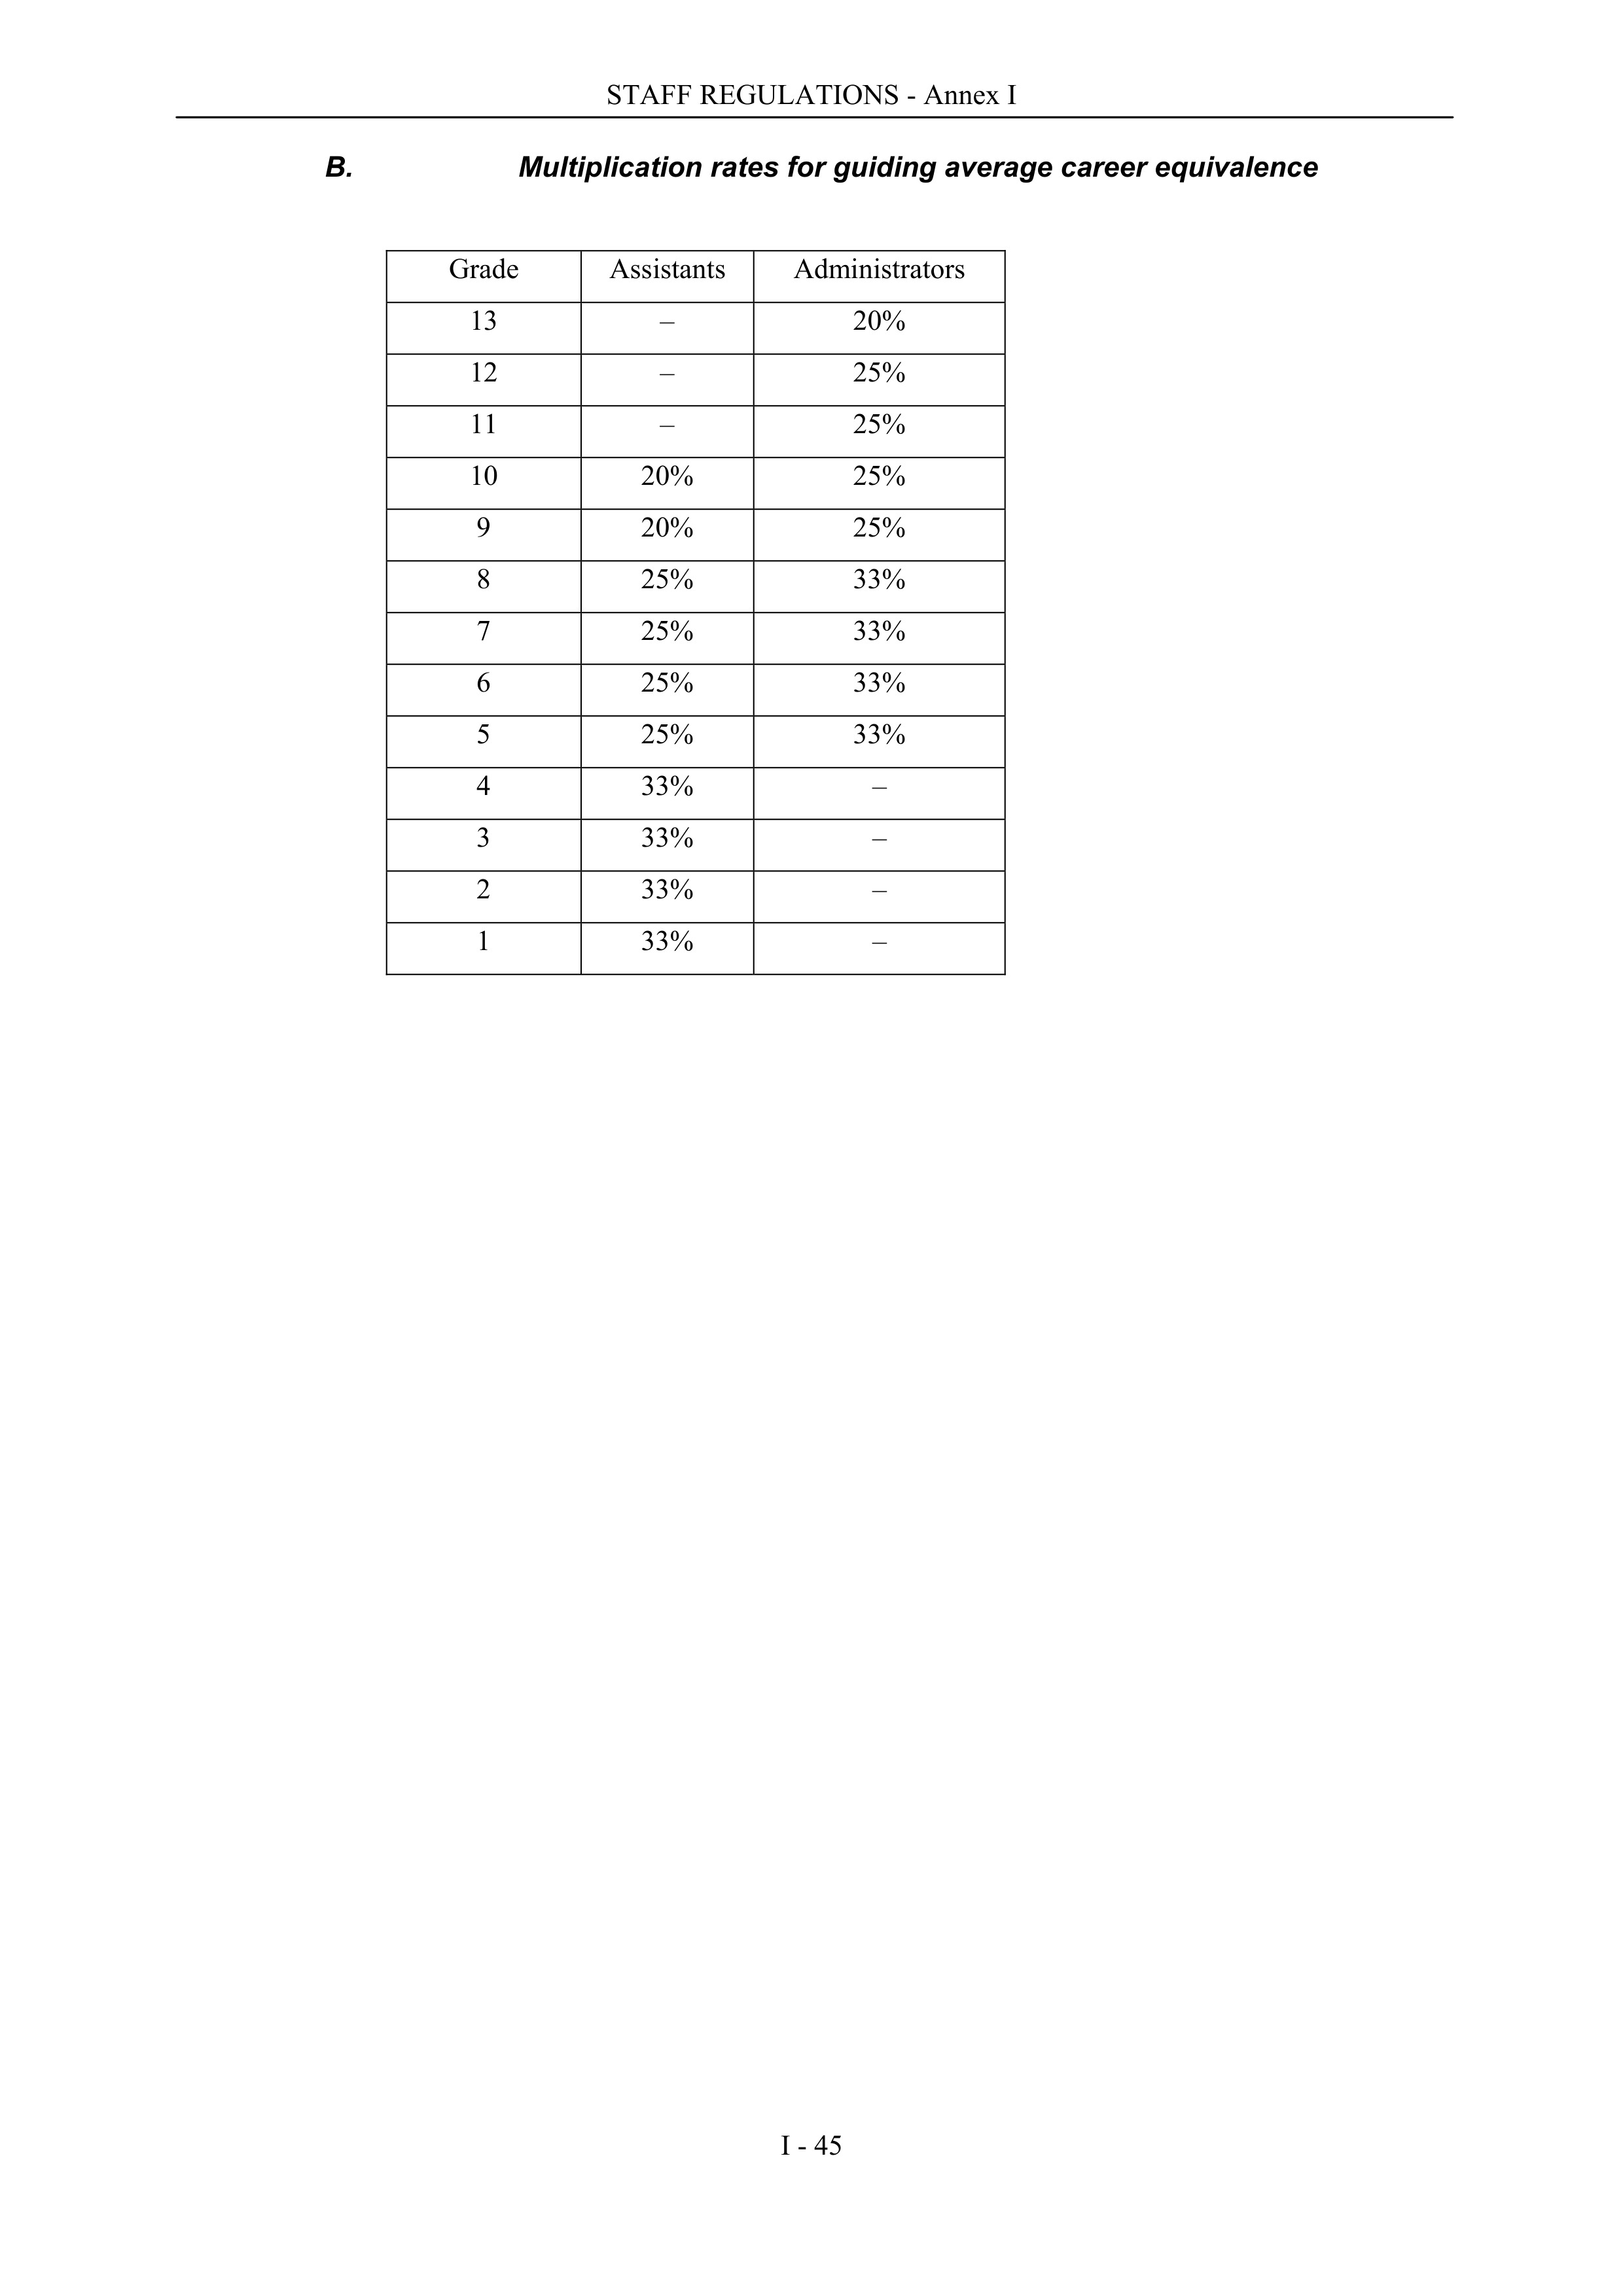table: (448, 253, 966, 957)
